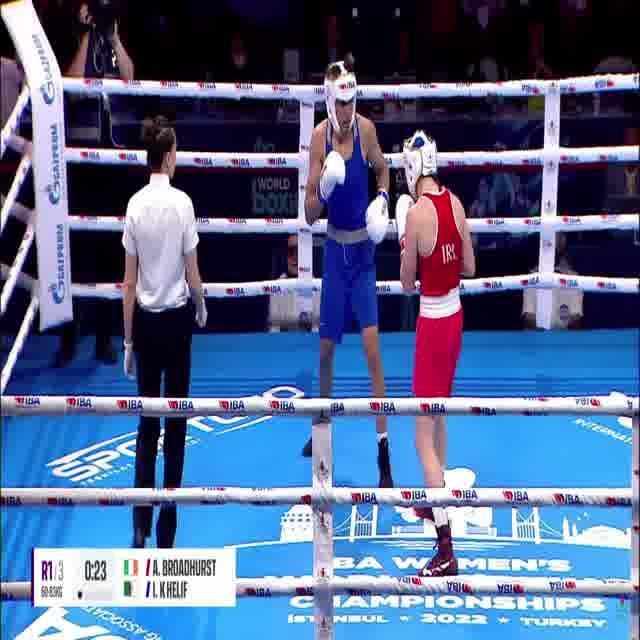blue-player: (299, 47, 396, 496)
red-player: (393, 126, 476, 591)
referee: (119, 107, 210, 553)
